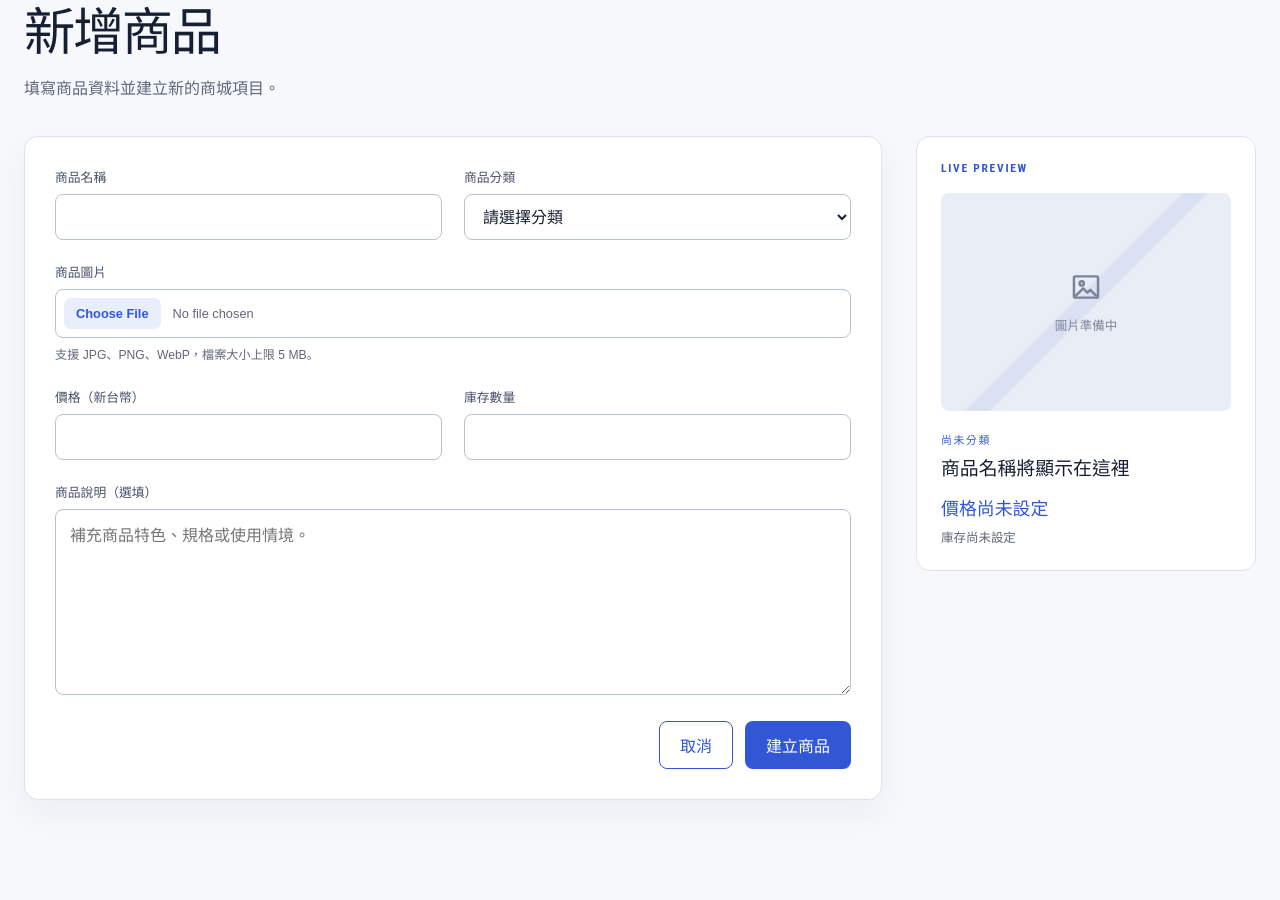
Scenario: AdminProductFormPage › 送出空白新增表單時顯示必填錯誤並聚焦第一欄
(page scrolled)
Click the button "建立商品": [798, 745] box [745, 721, 851, 769]
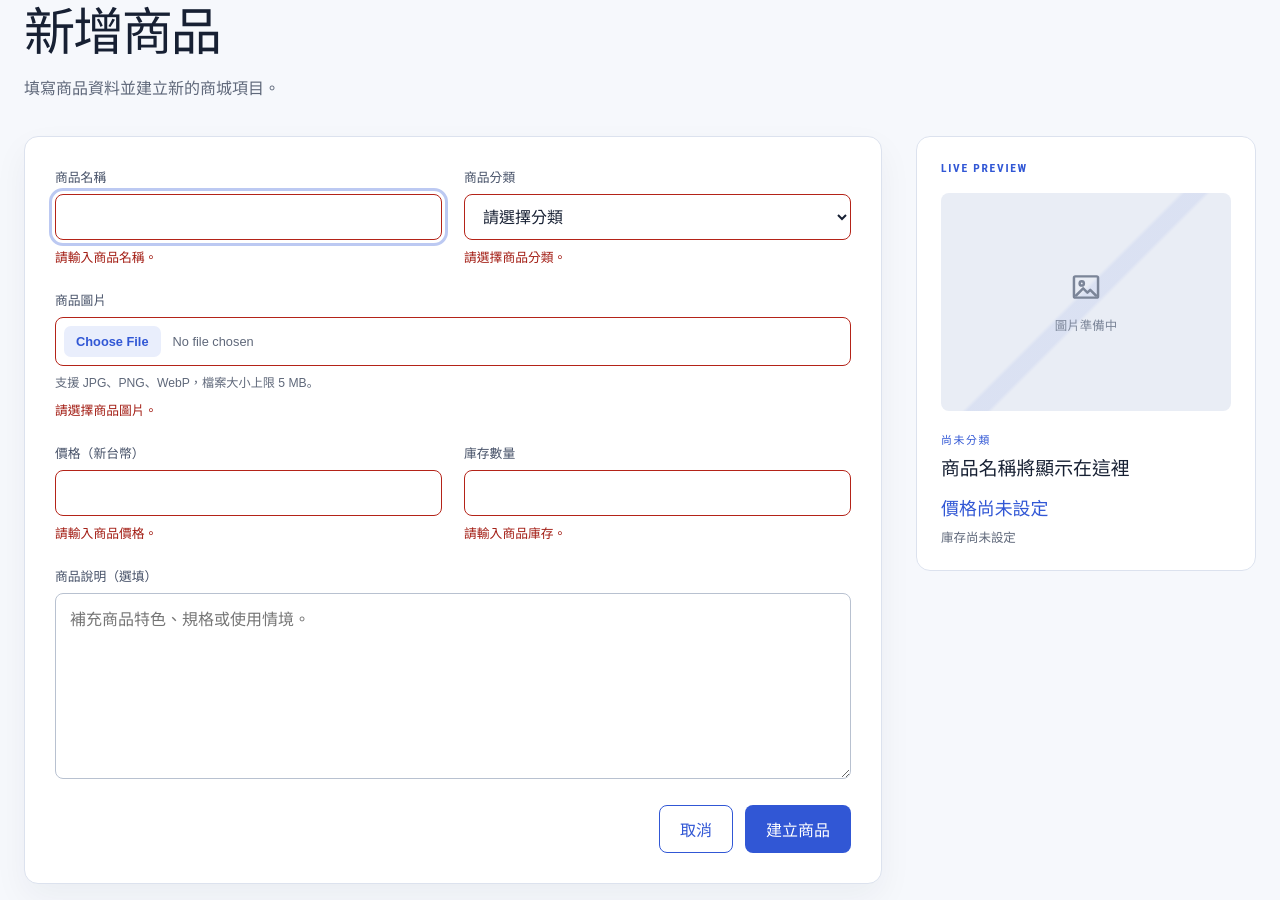
Now the text "請輸入商品名稱。" is shown, box [55, 250, 157, 265]
Now the text "請選擇商品分類。" is shown, box [464, 250, 566, 265]
Now the text "請選擇商品圖片。" is shown, box [55, 403, 157, 418]
